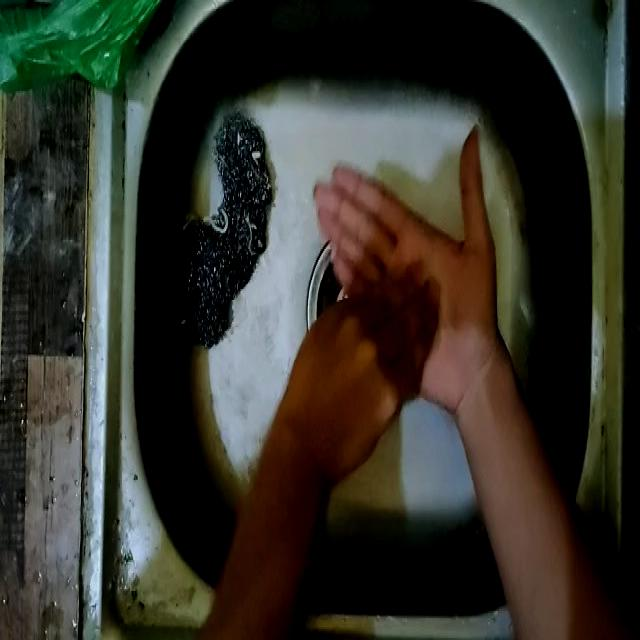step_6: (289, 121, 505, 448)
